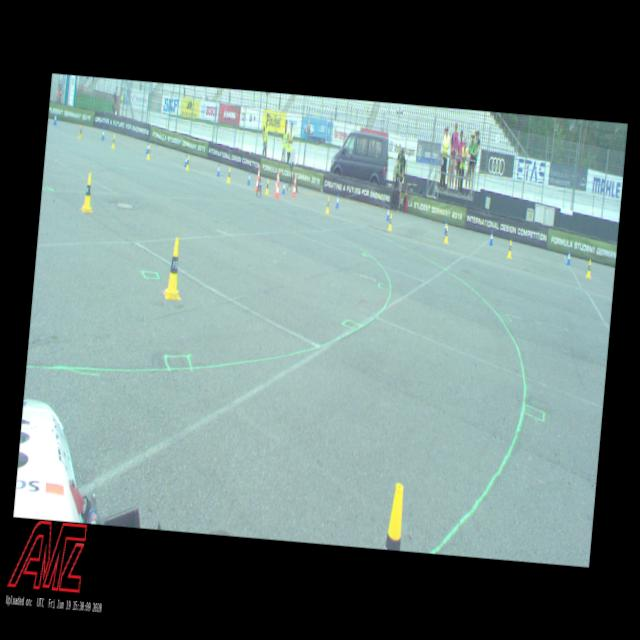blue_cone: (488, 229, 494, 245), (566, 248, 571, 264), (385, 206, 390, 220), (335, 193, 339, 208), (216, 162, 220, 176), (282, 180, 286, 194), (101, 127, 105, 140), (53, 112, 57, 125), (184, 154, 188, 166), (145, 142, 149, 154), (247, 171, 250, 184), (444, 219, 446, 233)
large_orange_cone: (274, 172, 280, 198), (254, 166, 260, 191), (291, 174, 297, 196), (274, 169, 278, 192)
yellow_cone: (384, 482, 405, 550), (163, 237, 184, 299), (80, 172, 95, 212), (585, 258, 592, 278), (506, 238, 512, 258), (324, 196, 330, 213), (226, 167, 232, 183), (264, 178, 270, 194), (184, 154, 190, 170), (444, 224, 449, 243), (387, 213, 392, 230), (146, 144, 151, 160), (111, 134, 116, 148), (78, 125, 82, 138)
